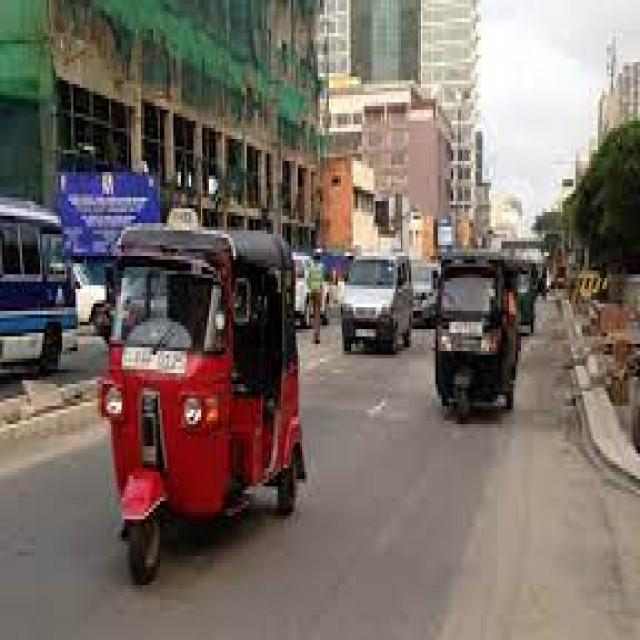bus: (0, 197, 76, 373)
car: (340, 256, 409, 351), (413, 260, 438, 325)
person: (309, 256, 322, 344)
three wheeler: (100, 227, 302, 581), (436, 256, 516, 417), (511, 260, 536, 333)
